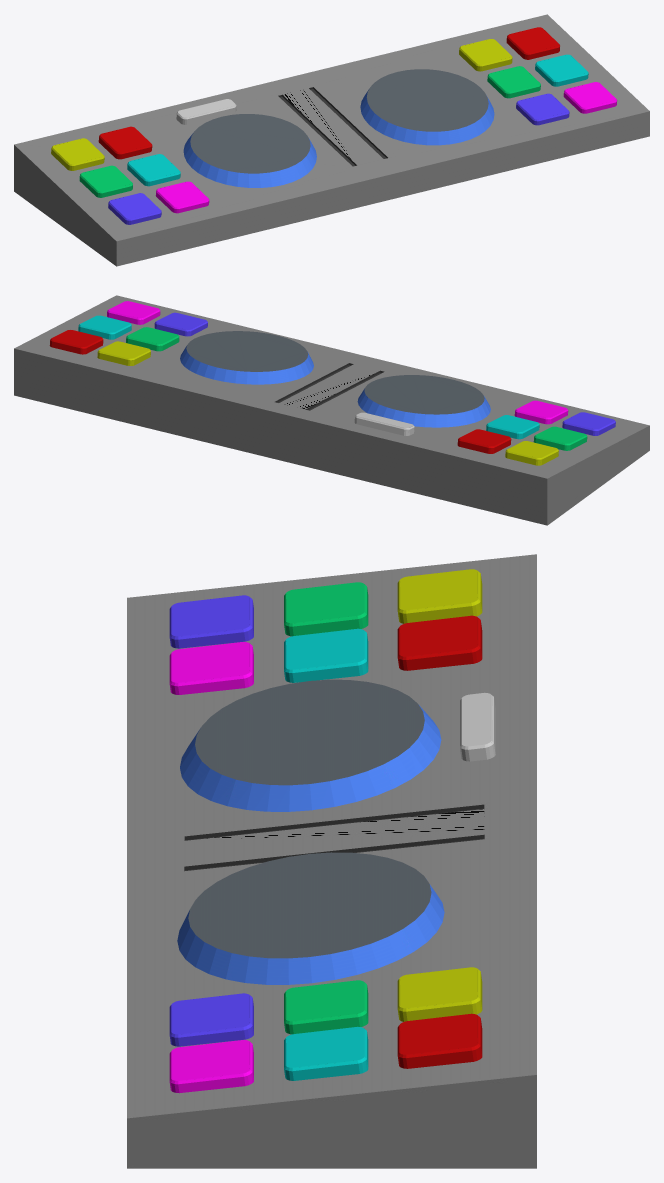
File: platine.gltf
3 views of the same model, one above another, from view 1: azimuth 30°, elevation 25°; view 2: azimuth 150°, elevation 25°; view 3: azimuth 270°, elevation 25° (orthographic). The views are drawn at different scales.
Visible parts, largest first — view 1: Cube.27, Cylinder.2, Cylinder.3, Cube.15, Cube.16, Cube.26, Cube.25, Cube.23, Cube.18, Cube.24, Cube.17, Cube.20 (+4 smaller); view 2: Cube.27, Cylinder.2, Cylinder.3, Cube.26, Cube.15, Cube.25, Cube.16, Cube.18, Cube.23, Cube.17, Cube.24, Cube.22 (+4 smaller); view 3: Cube.27, Cylinder.2, Cylinder.3, Cube.26, Cube.15, Cube.18, Cube.23, Cube.16, Cube.25, Cube.24, Cube.17, Cube.21 (+4 smaller).
Boxes of the visible parts, bbox=[...] form: Cube.27: bbox=[14, 14, 649, 266]; Cylinder.2: bbox=[360, 69, 494, 145]; Cylinder.3: bbox=[183, 114, 316, 187]; Cube.15: bbox=[506, 27, 559, 59]; Cube.16: bbox=[459, 39, 512, 71]; Cube.26: bbox=[98, 126, 152, 159]; Cube.25: bbox=[51, 138, 104, 170]; Cube.23: bbox=[127, 154, 180, 186]; Cube.18: bbox=[535, 54, 588, 86]; Cube.24: bbox=[79, 165, 132, 197]; Cube.17: bbox=[487, 66, 540, 98]; Cube.20: bbox=[516, 93, 569, 125]; Cube.27: bbox=[14, 295, 649, 525]; Cylinder.2: bbox=[180, 331, 313, 384]; Cylinder.3: bbox=[357, 375, 490, 427]; Cube.26: bbox=[457, 429, 511, 453]; Cube.15: bbox=[49, 330, 103, 354]; Cube.25: bbox=[505, 441, 558, 465]; Cube.16: bbox=[97, 341, 150, 365]; Cube.18: bbox=[78, 315, 131, 339]; Cube.23: bbox=[486, 415, 539, 439]; Cube.17: bbox=[126, 327, 179, 351]; Cube.24: bbox=[533, 426, 587, 450]; Cube.22: bbox=[514, 400, 568, 424]; Cube.27: bbox=[127, 554, 536, 1168]; Cylinder.2: bbox=[177, 852, 444, 984]; Cylinder.3: bbox=[180, 679, 441, 811]; Cube.26: bbox=[397, 615, 482, 670]; Cube.15: bbox=[397, 1013, 482, 1068]; Cube.18: bbox=[284, 1026, 368, 1080]; Cube.23: bbox=[284, 628, 368, 682]; Cube.16: bbox=[397, 967, 482, 1021]; Cube.25: bbox=[397, 569, 482, 623]; Cube.24: bbox=[284, 582, 368, 636]; Cube.17: bbox=[284, 980, 368, 1034]; Cube.21: bbox=[169, 595, 253, 648].
Size of the model in its own units: 601 by 55.76 by 200.
16 materials, 16 textured.
